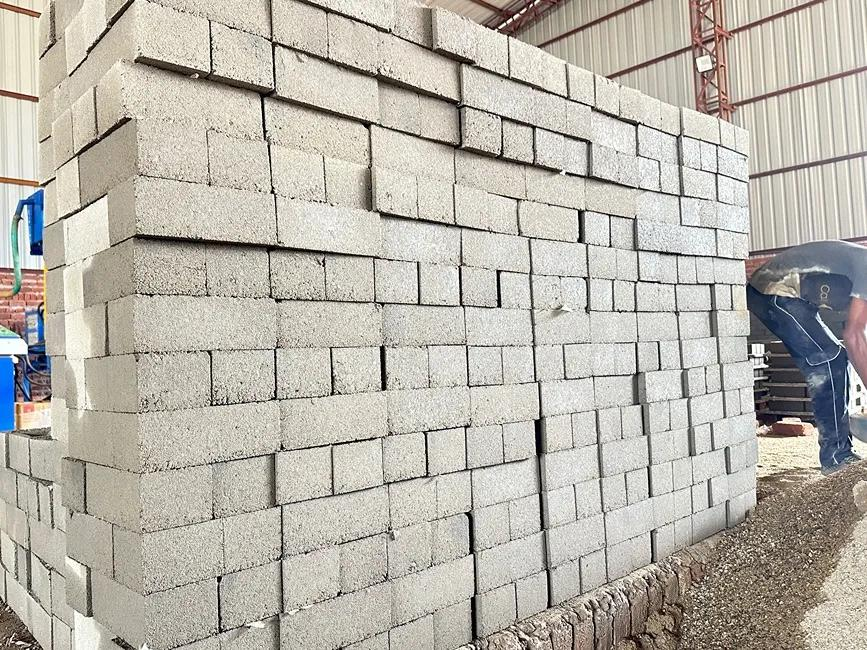Bricks: (272, 553, 477, 647), (35, 7, 137, 145), (93, 65, 268, 143), (107, 173, 272, 250), (72, 407, 280, 467), (77, 123, 218, 205), (103, 297, 285, 357), (462, 63, 595, 142), (327, 17, 457, 97), (92, 573, 220, 647), (85, 463, 212, 533), (118, 515, 228, 595), (88, 237, 210, 308), (273, 50, 382, 125), (282, 537, 390, 608), (280, 485, 392, 553), (270, 190, 380, 258), (88, 352, 212, 410), (267, 98, 368, 165), (273, 388, 393, 443), (387, 515, 467, 583), (130, 5, 210, 72), (375, 82, 460, 145), (218, 563, 293, 633), (578, 175, 677, 227), (607, 487, 693, 545), (363, 130, 458, 182), (370, 167, 457, 223), (317, 0, 430, 43), (377, 210, 463, 265), (222, 510, 283, 587), (387, 475, 472, 530), (157, 0, 273, 40), (475, 533, 553, 592), (397, 387, 473, 447), (277, 305, 383, 347), (470, 498, 542, 558), (210, 23, 273, 90), (465, 373, 538, 430), (210, 458, 275, 520), (450, 183, 523, 238), (280, 443, 338, 510), (512, 198, 588, 248), (453, 152, 527, 203), (3, 572, 52, 649), (210, 347, 277, 402), (507, 35, 565, 98), (202, 243, 267, 298), (330, 433, 385, 498), (270, 0, 332, 57), (68, 513, 117, 585), (545, 512, 608, 568), (270, 343, 337, 395), (212, 137, 272, 190), (462, 227, 532, 272), (382, 308, 460, 348), (60, 195, 107, 260), (472, 577, 523, 635), (468, 462, 538, 503), (265, 252, 322, 302), (270, 147, 325, 198), (558, 345, 638, 380), (640, 223, 722, 257), (333, 338, 382, 393), (60, 305, 107, 362), (427, 8, 478, 60), (523, 172, 592, 210), (323, 258, 375, 308), (70, 0, 105, 73), (623, 90, 680, 133), (608, 525, 655, 577), (590, 113, 645, 157), (465, 310, 530, 347), (380, 437, 425, 490), (323, 160, 368, 212), (537, 380, 597, 418), (682, 202, 753, 233), (598, 435, 653, 475), (378, 348, 433, 387), (510, 573, 557, 618), (35, 30, 65, 100), (545, 450, 595, 492), (532, 305, 587, 343), (542, 482, 583, 532), (533, 275, 588, 312), (475, 20, 510, 78), (58, 155, 90, 218), (535, 238, 585, 278), (33, 515, 68, 572), (713, 410, 762, 450), (370, 262, 413, 307), (687, 505, 733, 547), (63, 558, 95, 618), (415, 267, 465, 305), (583, 313, 642, 345), (637, 308, 678, 350), (470, 425, 510, 468), (712, 467, 760, 502), (53, 355, 82, 412), (458, 112, 498, 153), (617, 153, 655, 193), (70, 92, 97, 148), (22, 555, 50, 608), (505, 420, 542, 460), (730, 438, 763, 482), (47, 575, 73, 630), (503, 123, 537, 165), (697, 260, 748, 288), (553, 557, 582, 605), (652, 525, 695, 557), (60, 460, 85, 515), (593, 378, 638, 408), (433, 430, 463, 475), (47, 410, 75, 458), (27, 442, 58, 485), (680, 110, 718, 145), (675, 312, 713, 347), (727, 488, 758, 530), (40, 260, 65, 312), (432, 347, 468, 383), (678, 167, 717, 200), (638, 278, 678, 310), (503, 347, 535, 387), (685, 332, 717, 372), (650, 370, 690, 402), (2, 503, 28, 552), (462, 272, 497, 308), (723, 358, 757, 395), (493, 277, 530, 310), (33, 0, 53, 60), (40, 218, 63, 270), (640, 130, 677, 162), (42, 308, 63, 363), (567, 67, 595, 108), (597, 73, 623, 117), (717, 177, 755, 207), (647, 435, 692, 460), (532, 342, 563, 378), (468, 345, 498, 382), (588, 148, 620, 182), (53, 110, 72, 167), (612, 247, 642, 282), (582, 545, 605, 590), (625, 470, 652, 508), (43, 172, 63, 223), (50, 0, 80, 33), (60, 262, 82, 307), (587, 247, 615, 282), (673, 287, 708, 315), (715, 310, 750, 338), (567, 138, 590, 180), (693, 450, 725, 480), (722, 117, 748, 153), (633, 343, 662, 375), (717, 232, 750, 260), (728, 390, 757, 420), (583, 213, 610, 245), (8, 435, 28, 478), (38, 135, 57, 180), (673, 253, 698, 287), (610, 215, 635, 248), (577, 482, 602, 515), (638, 252, 665, 282), (537, 133, 560, 168), (690, 418, 713, 453), (17, 483, 40, 518), (658, 245, 678, 285), (543, 418, 568, 450), (623, 400, 647, 433), (695, 395, 723, 423), (718, 335, 747, 362), (670, 458, 697, 487), (597, 408, 623, 438), (645, 402, 672, 430), (615, 278, 638, 310), (693, 365, 720, 392), (607, 475, 627, 510), (658, 162, 678, 195), (663, 340, 685, 370), (588, 285, 613, 308), (572, 418, 593, 445), (652, 465, 672, 493), (675, 402, 692, 433), (45, 488, 60, 522), (712, 283, 732, 308), (693, 482, 708, 512), (52, 620, 70, 645), (735, 287, 747, 310)
